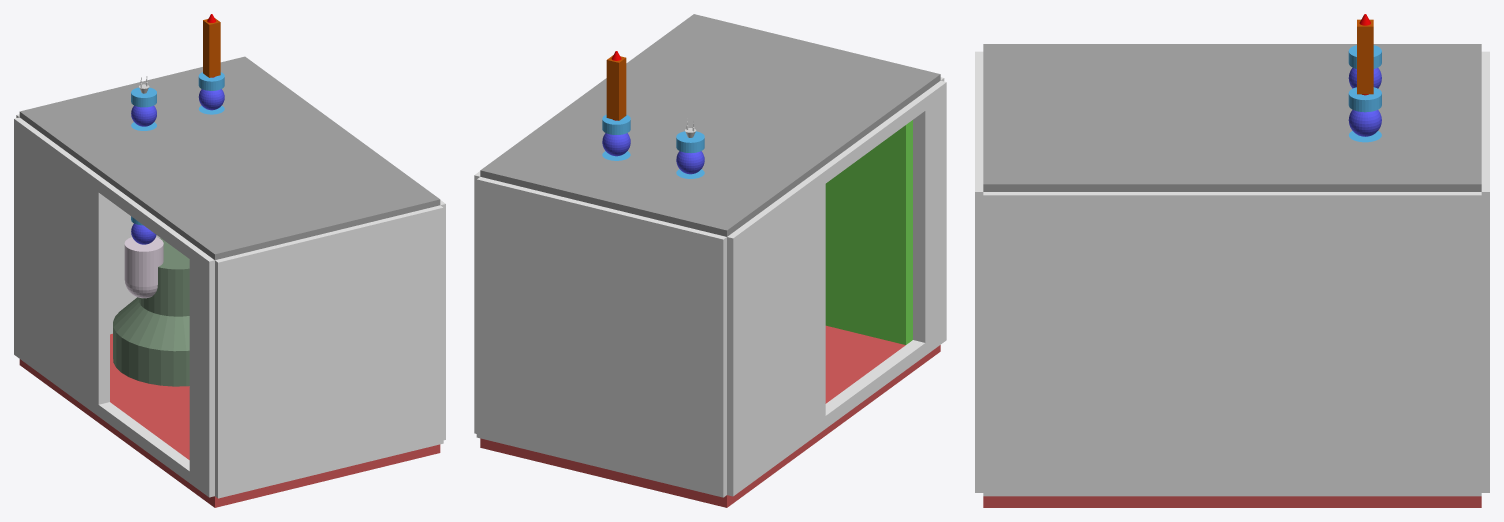
Rendered from robot.glb.
3 views of the same model, side by side, from view 1: azimuth 30°, elevation 25°; view 2: azimuth 150°, elevation 25°; view 3: azimuth 270°, elevation 25° (orthographic). The views are drawn at different scales.
Parts seen in each view (by area): view 1: S_wall, roof, W_wall, floor, base, waist, trunk, N_wall, rightShoulder, dybox_case, E_wall; view 2: N_wall, roof, W_wall, door, floor, dybox_case, E_wall, leftrobot_wrist, rightrobot_wrist, rightrobot_hand; view 3: E_wall, roof, floor, N_wall, S_wall, dybox_case, leftrobot_wrist, leftrobot_hand.
Part boxes in pixels (<box>): S_wall: <box>215,205,443,498</box>; roof: <box>19,56,440,259</box>; W_wall: <box>14,117,214,497</box>; floor: <box>19,333,440,507</box>; base: <box>113,324,189,386</box>; waist: <box>113,297,189,351</box>; trunk: <box>139,238,189,316</box>; N_wall: <box>16,114,160,334</box>; rightShoulder: <box>124,237,163,286</box>; dybox_case: <box>203,18,220,77</box>; E_wall: <box>440,200,445,440</box>; N_wall: <box>476,177,726,497</box>; roof: <box>480,14,940,236</box>; W_wall: <box>727,80,946,496</box>; door: <box>825,120,912,344</box>; floor: <box>480,325,940,507</box>; dybox_case: <box>606,55,626,120</box>; E_wall: <box>474,171,480,433</box>; leftrobot_wrist: <box>602,133,630,156</box>; rightrobot_wrist: <box>676,151,704,174</box>; rightrobot_hand: <box>676,131,704,153</box>; E_wall: <box>983,192,1481,496</box>; roof: <box>983,44,1481,191</box>; floor: <box>983,496,1481,507</box>; N_wall: <box>1481,51,1489,492</box>; S_wall: <box>975,51,983,492</box>; dybox_case: <box>1357,19,1373,94</box>; leftrobot_wrist: <box>1348,109,1381,136</box>; leftrobot_hand: <box>1348,87,1381,112</box>.
Bounding box in the file's own units: 2.1 × 2.95 × 3.1.
